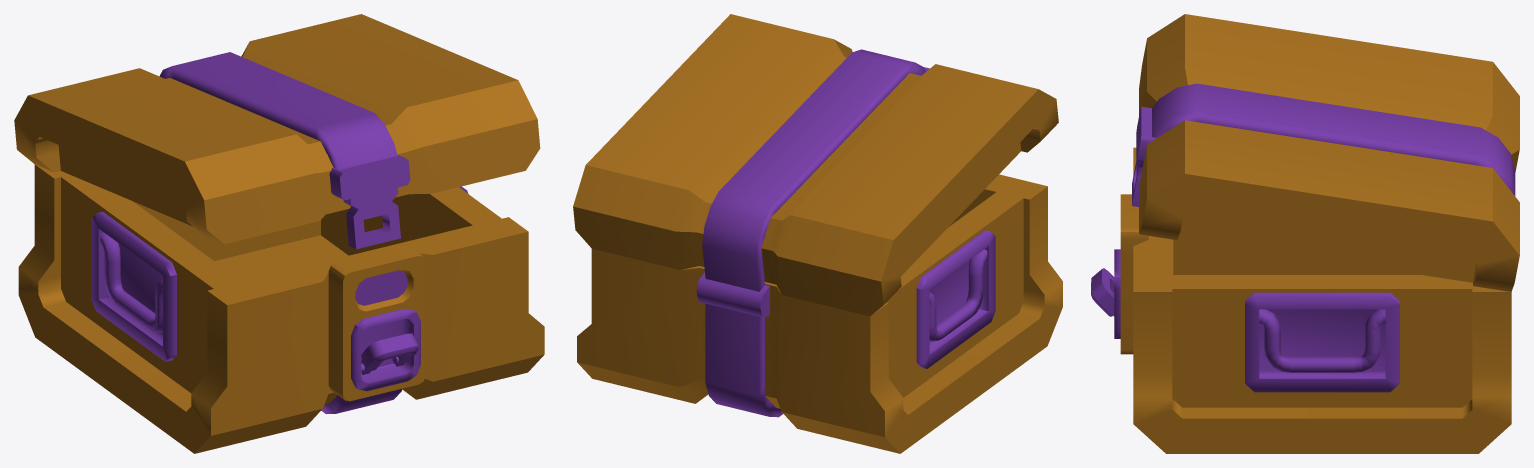
The model's file is obj_interactive_smallchest_on.fbx.
3 renders of one model, left to right at view 1: azimuth 30°, elevation 25°; view 2: azimuth 150°, elevation 25°; view 3: azimuth 270°, elevation 25°, orthographic. The views are drawn at different scales.
Parts seen in each view (by area): view 1: obj_interactive_smallchest_on; view 2: obj_interactive_smallchest_on; view 3: obj_interactive_smallchest_on.
Boxes of the visible parts, x1,y1,x2,y2 form: obj_interactive_smallchest_on: [14, 14, 544, 453]; obj_interactive_smallchest_on: [573, 14, 1062, 453]; obj_interactive_smallchest_on: [1091, 14, 1519, 453].
Bounding box in the file's own units: 3 × 2.45 × 3.4.
